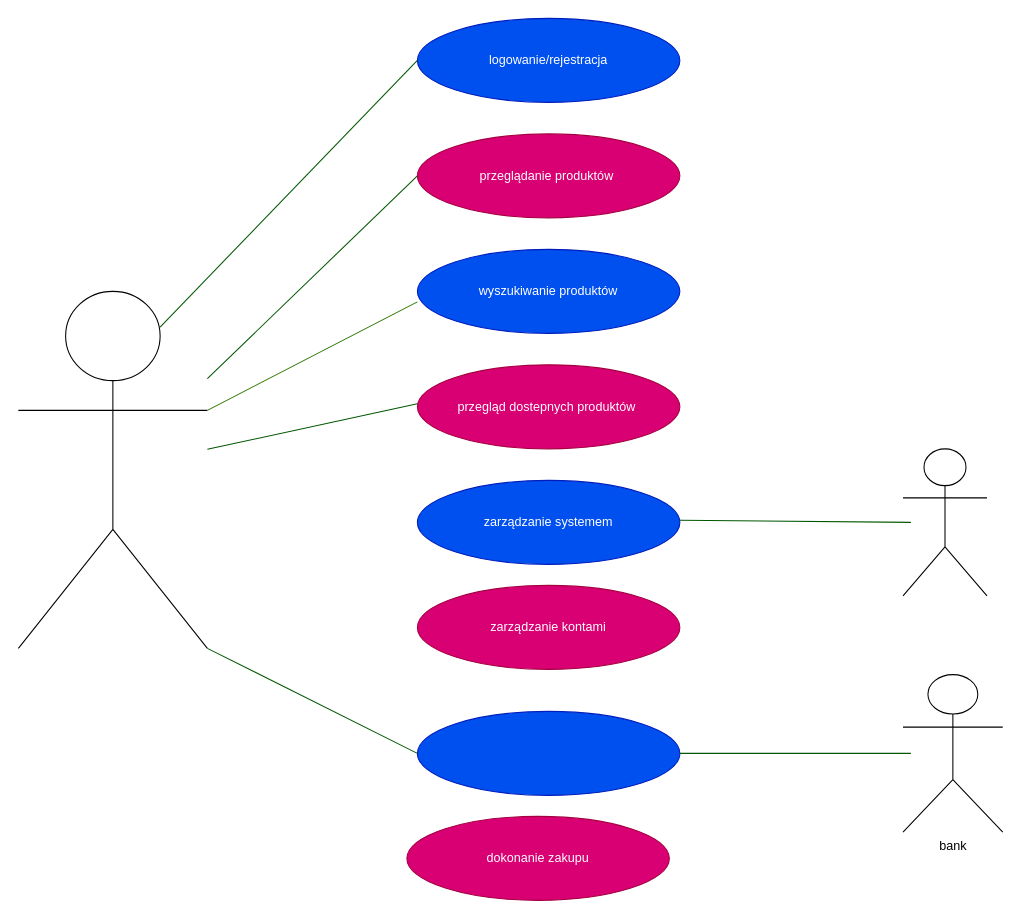
Some shapes in this 1022 by 919 pixel diagram are drawn without their labels. Each missing label, with the box of its shape:
klient: (17, 290, 207, 648)
przetwarzanie płatności: (416, 710, 680, 795)
własciciel: (902, 448, 987, 596)
